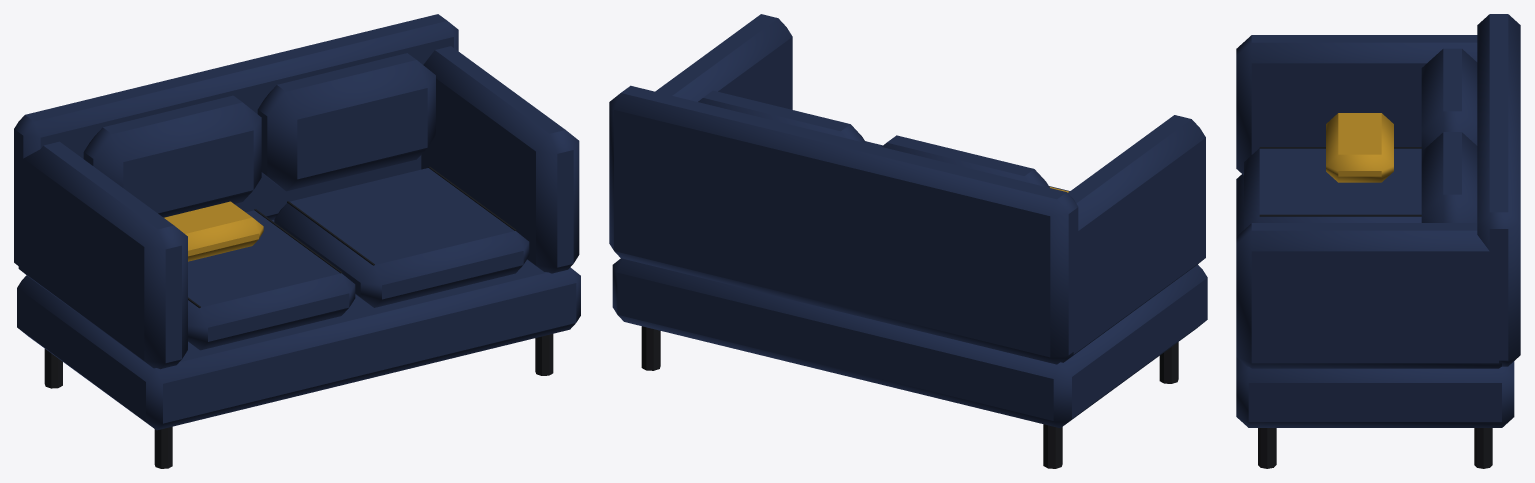
The model's file is couch_two_seater_sofa.glb.
3 views of the same model, side by side, from view 1: azimuth 30°, elevation 25°; view 2: azimuth 150°, elevation 25°; view 3: azimuth 270°, elevation 25° (orthographic). The views are drawn at different scales.
Visible parts, largest first — view 1: couch_two_seater_sofa; view 2: couch_two_seater_sofa; view 3: couch_two_seater_sofa.
Boxes of the visible parts, x1,y1,x2,y2 form: couch_two_seater_sofa: [14, 14, 580, 468]; couch_two_seater_sofa: [609, 14, 1207, 468]; couch_two_seater_sofa: [1236, 14, 1520, 468].
Size of the model in its own units: 1.6 by 0.93 by 0.92.
